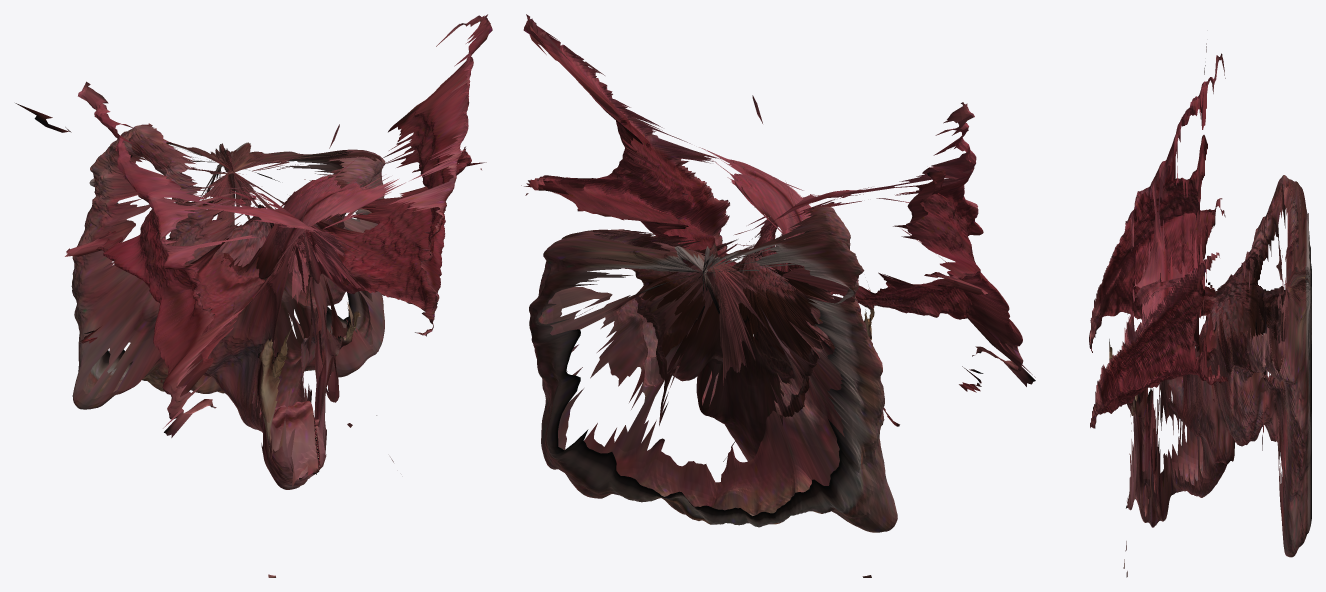
3 renders of one model, left to right at view 1: azimuth 30°, elevation 25°; view 2: azimuth 150°, elevation 25°; view 3: azimuth 270°, elevation 25°, orthographic. The views are drawn at different scales.
Visible parts, largest first — view 1: geometry_0; view 2: geometry_0; view 3: geometry_0.
Boxes of the visible parts, x1,y1,x2,y2 form: geometry_0: (15,14,492,577); geometry_0: (521,14,1035,577); geometry_0: (1089,43,1311,577).
Size of the model in its own units: 1.49 by 1.48 by 0.6429.
Materials: 1 (1 with a texture image).
